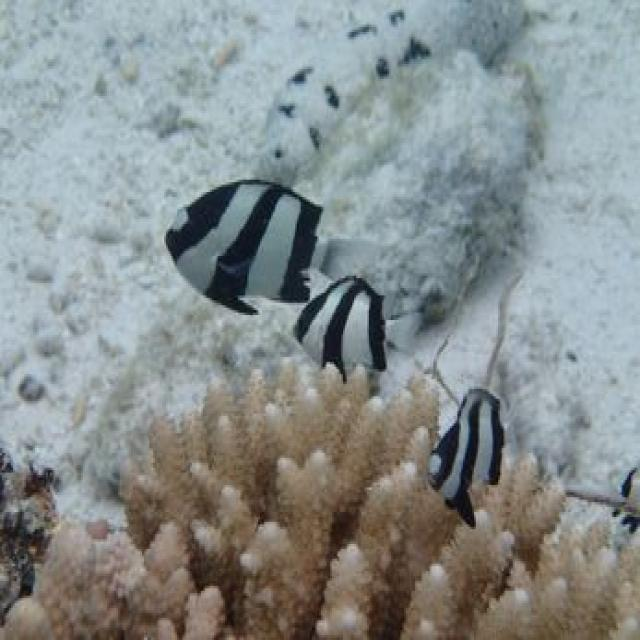Three_striped DasmselFish: (166, 180, 324, 320), (290, 276, 424, 381), (427, 383, 503, 531)
